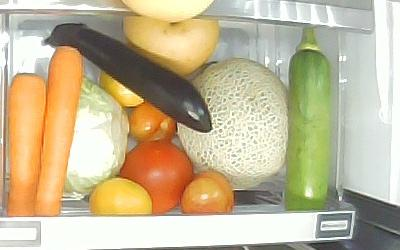cabbage: (63, 75, 129, 195)
carrot: (35, 44, 84, 216), (6, 71, 46, 216)
eggplant: (39, 21, 213, 135)
melon: (177, 57, 290, 191)
pear: (122, 16, 223, 80)
prune: (178, 170, 234, 216), (129, 101, 179, 144)
tangerine: (89, 177, 152, 215), (99, 69, 143, 106)
tomato: (120, 142, 194, 215)
zucchini: (285, 26, 331, 211)
